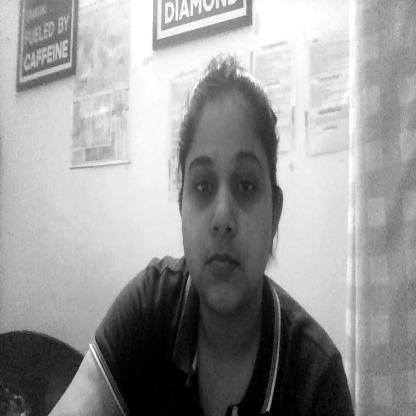Normal: (180, 102, 280, 318)
